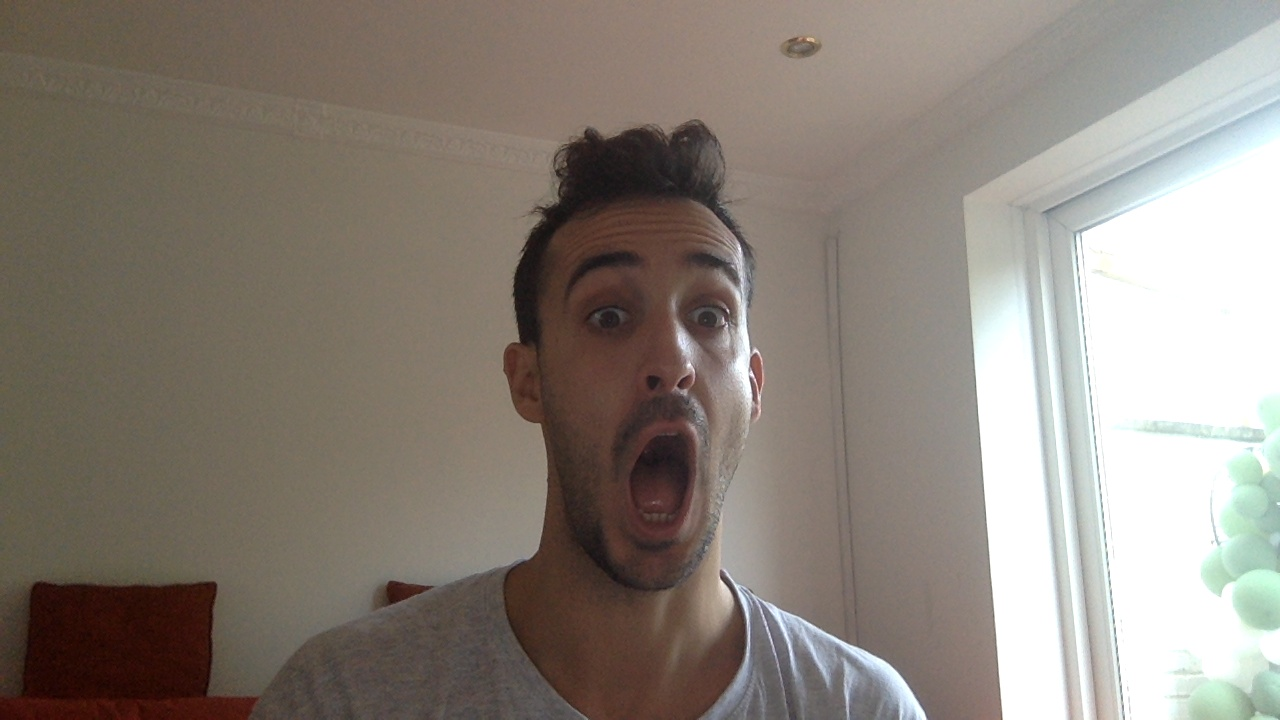surprise: (624, 415, 697, 542)
